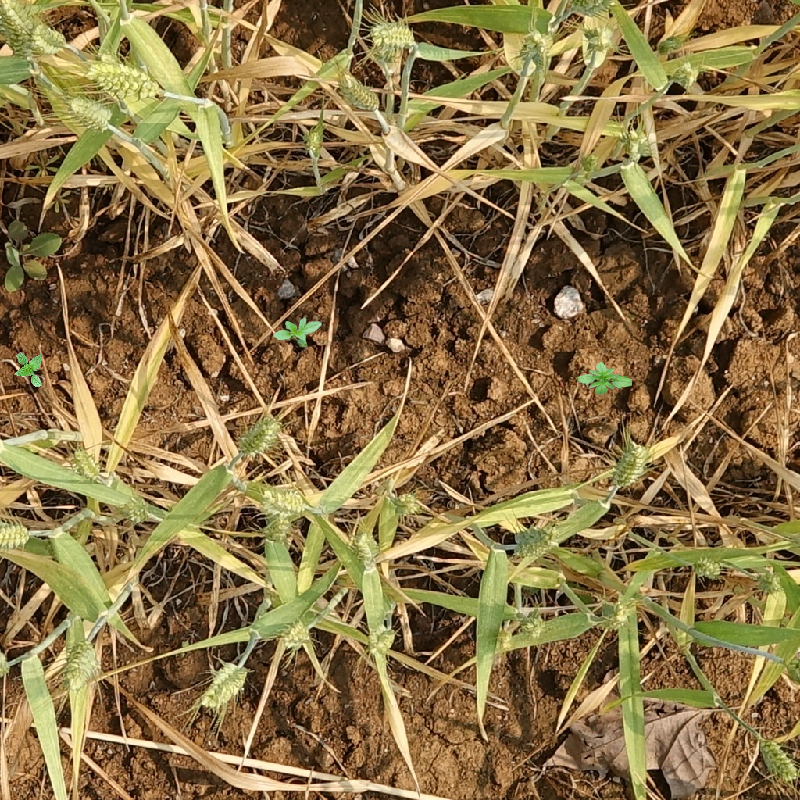spikelet: (86, 55, 160, 100), (199, 661, 247, 710), (61, 637, 101, 692), (609, 438, 650, 490), (1, 1, 39, 54), (757, 737, 799, 783), (335, 70, 381, 112), (65, 92, 115, 130), (236, 416, 282, 457), (516, 26, 555, 74), (512, 521, 558, 560), (367, 18, 416, 51), (258, 484, 307, 517), (578, 24, 614, 67), (598, 596, 634, 632), (30, 21, 68, 55), (116, 495, 159, 525), (350, 530, 381, 571), (278, 617, 313, 652), (666, 54, 701, 89), (69, 446, 102, 482), (386, 488, 424, 519), (621, 127, 653, 163), (365, 621, 396, 657), (1, 516, 32, 550), (690, 551, 725, 581), (516, 608, 547, 640), (753, 563, 782, 596), (565, 1, 617, 16), (303, 126, 324, 162)
weed: (5, 343, 56, 395), (576, 362, 632, 395), (273, 317, 322, 348)
